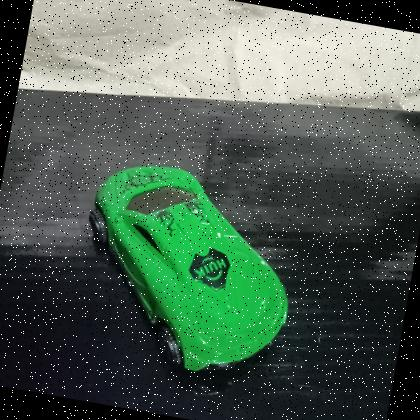Car: (62, 150, 316, 393)
